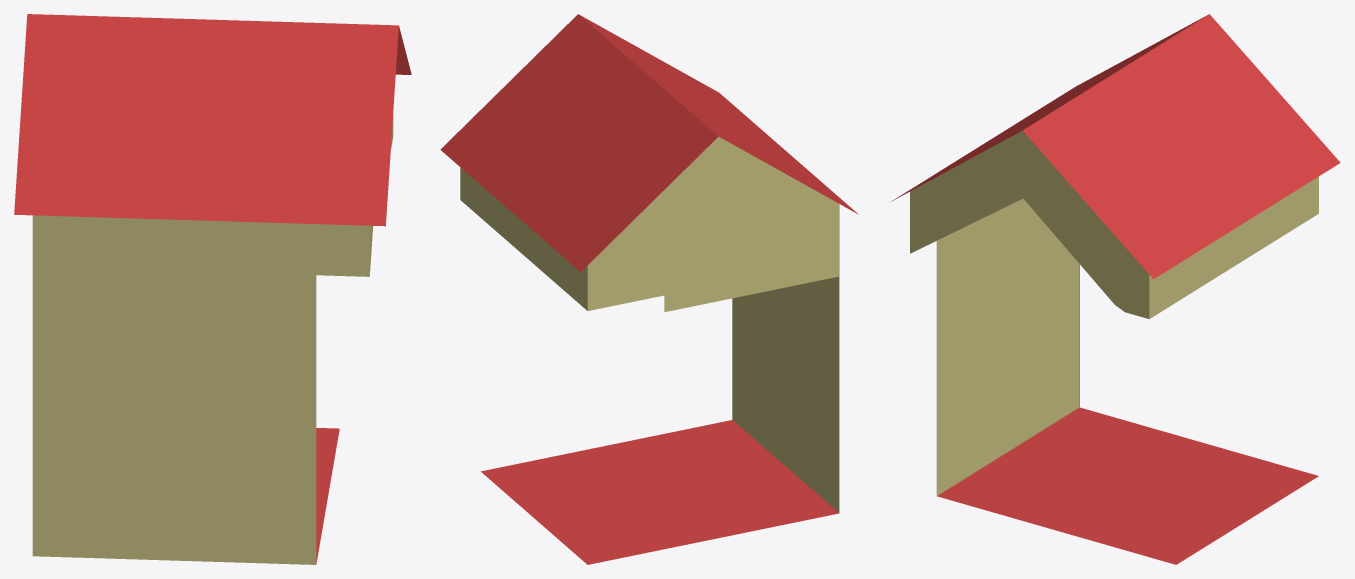
3 renders of one model, left to right at view 1: azimuth 30°, elevation 25°; view 2: azimuth 150°, elevation 25°; view 3: azimuth 270°, elevation 25°, orthographic. The views are drawn at different scales.
Size of the model in its own units: 14.67 by 14.56 by 15.01.
